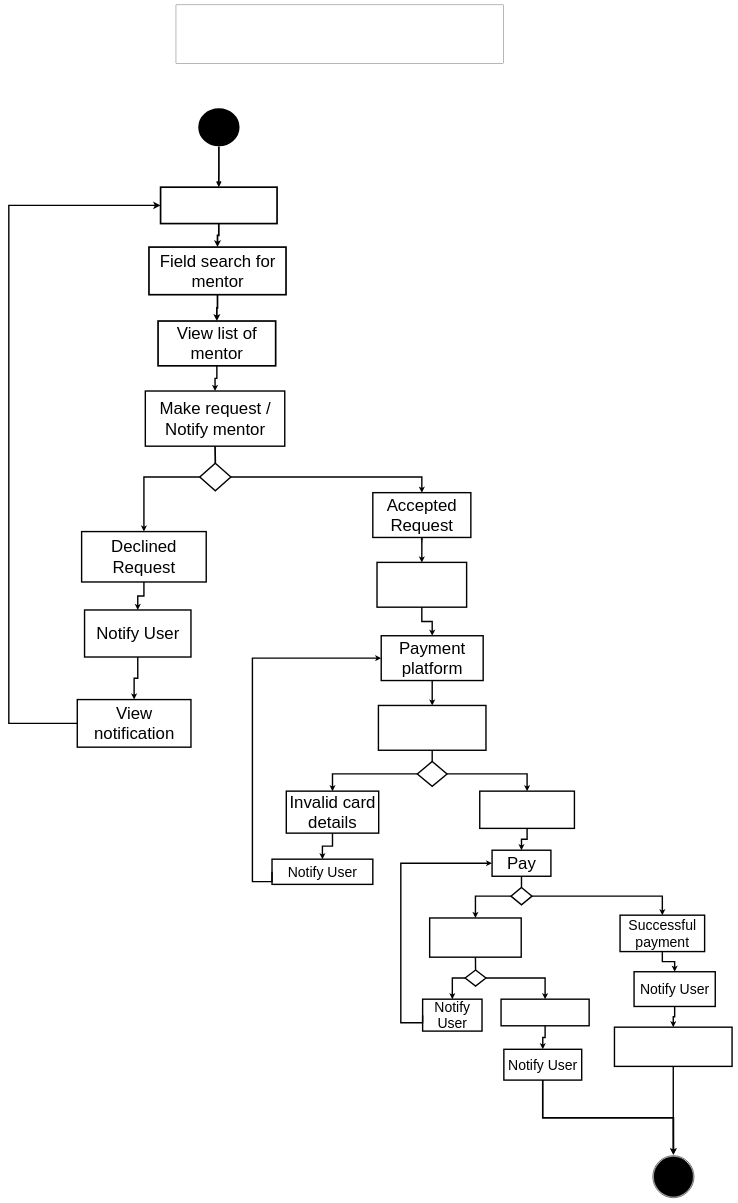
The diagram is 738 pixels wide and 1203 high, and some of its shapes have lost their labels. Each missing label, with the centre of its shape:
"Access mentor platform" goes at pixel 673 1046.
"Dashboard" goes at pixel 219 205.
"Mentor-mentee Linking" goes at pixel 340 34.
"Notify mentee" goes at pixel 421 585.
"Provide card details" goes at pixel 432 728.
"Server Error" goes at pixel 545 1012.
"Unsuccessful payment" goes at pixel 475 937.
"Valid card details" goes at pixel 527 809.
